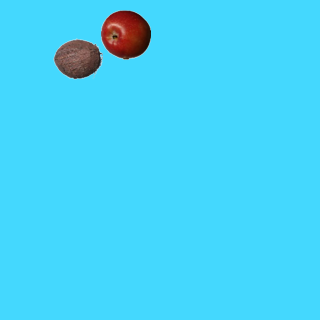Apple Braeburn: (100, 9, 150, 59)
Cocos: (52, 33, 102, 83)
